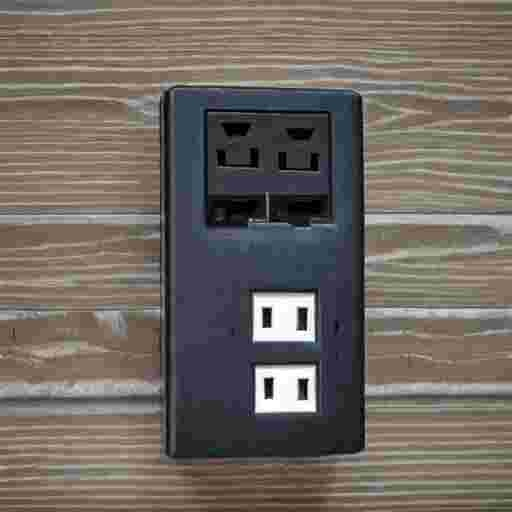power outlet: (162, 86, 364, 457)
